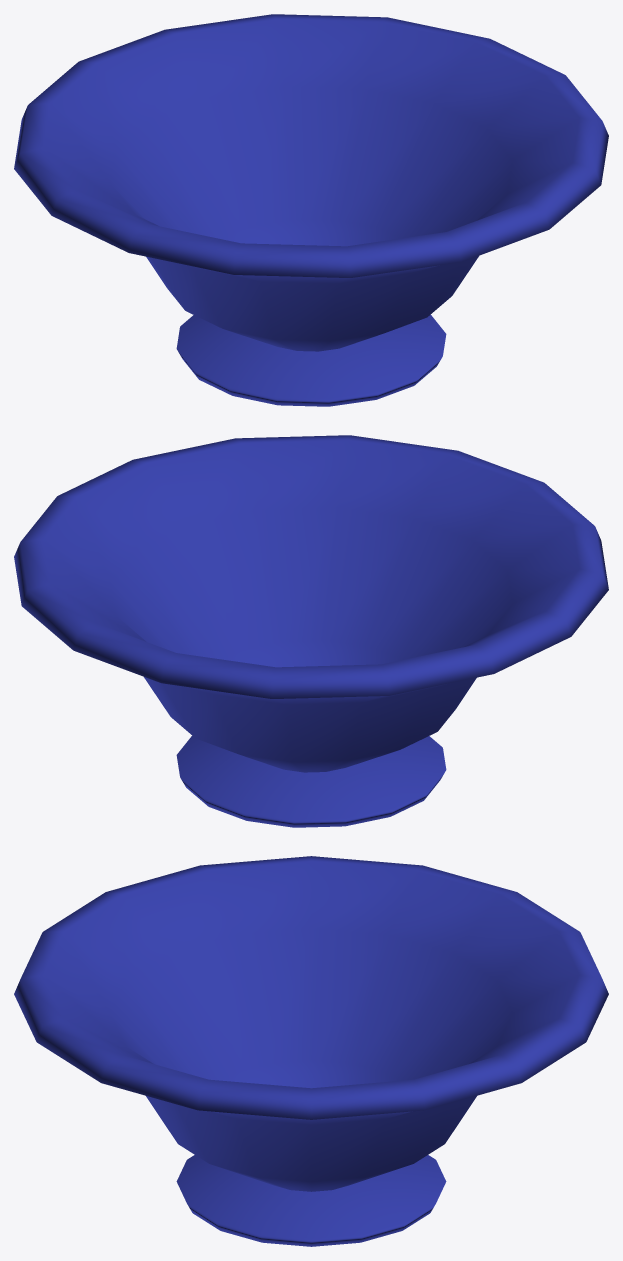
Rendered from vaso5.fbx.
3 views of the same model, one above another, from view 1: azimuth 30°, elevation 25°; view 2: azimuth 150°, elevation 25°; view 3: azimuth 270°, elevation 25° (orthographic).
Visible parts, largest first — view 1: vaso_hunit3; view 2: vaso_hunit3; view 3: vaso_hunit3.
Boxes of the visible parts, x1,y1,x2,y2 form: vaso_hunit3: (14,14,608,406); vaso_hunit3: (14,435,608,827); vaso_hunit3: (14,856,608,1246).
Size of the model in its own units: 0.6117 by 0.2467 by 0.6117.
